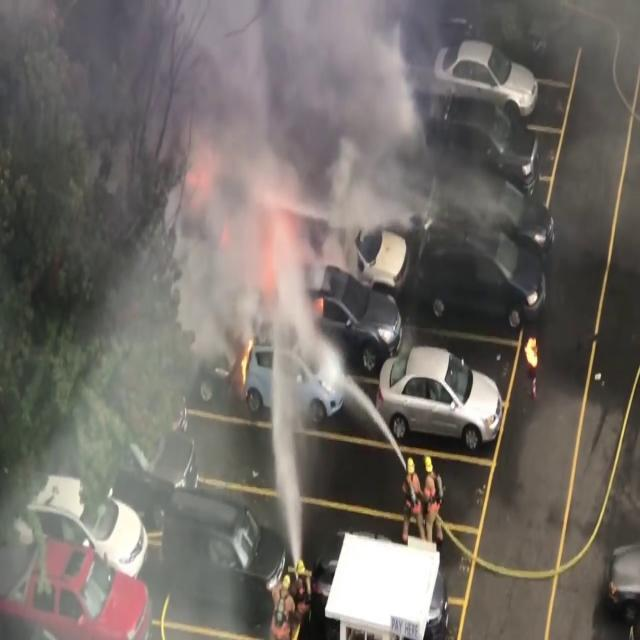Fire: (237, 333, 256, 391)
Smoke: (175, 1, 358, 380)
